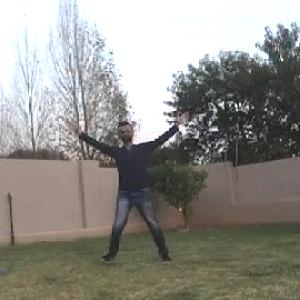takeoff: (84, 103, 206, 266)
